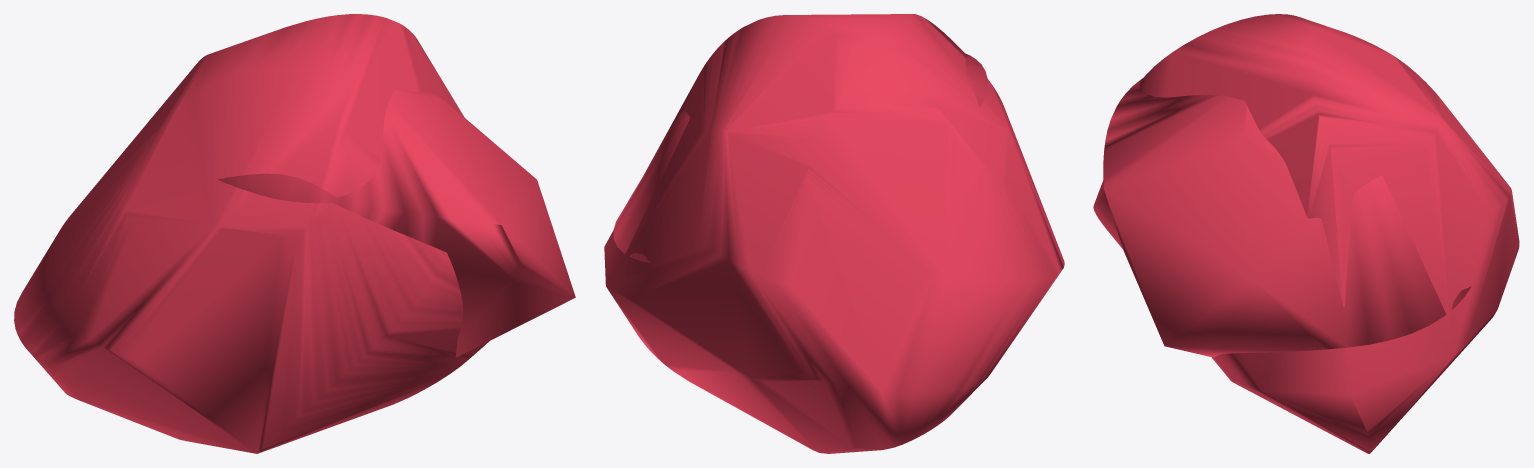
Rendered from hair for chub wrap.fbx.
The picture shows the model from 3 angles, left to right: view 1: azimuth 30°, elevation 25°; view 2: azimuth 150°, elevation 25°; view 3: azimuth 270°, elevation 25°; orthographic projection. The views are drawn at different scales.
Parts seen in each view (by area): view 1: wrap2; view 2: wrap2; view 3: wrap2.
Boxes of the visible parts, x1,y1,x2,y2 form: wrap2: [14, 14, 575, 453]; wrap2: [604, 14, 1064, 453]; wrap2: [1093, 14, 1519, 453].
Bounding box in the file's own units: 153 × 135 × 132.
